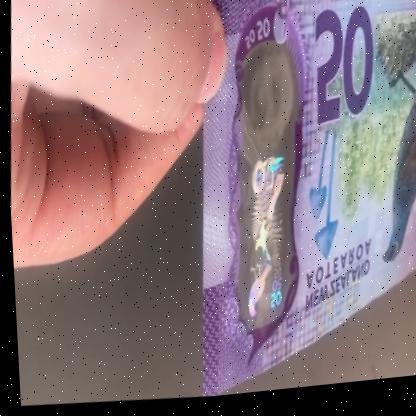50B: (229, 68, 298, 328)
